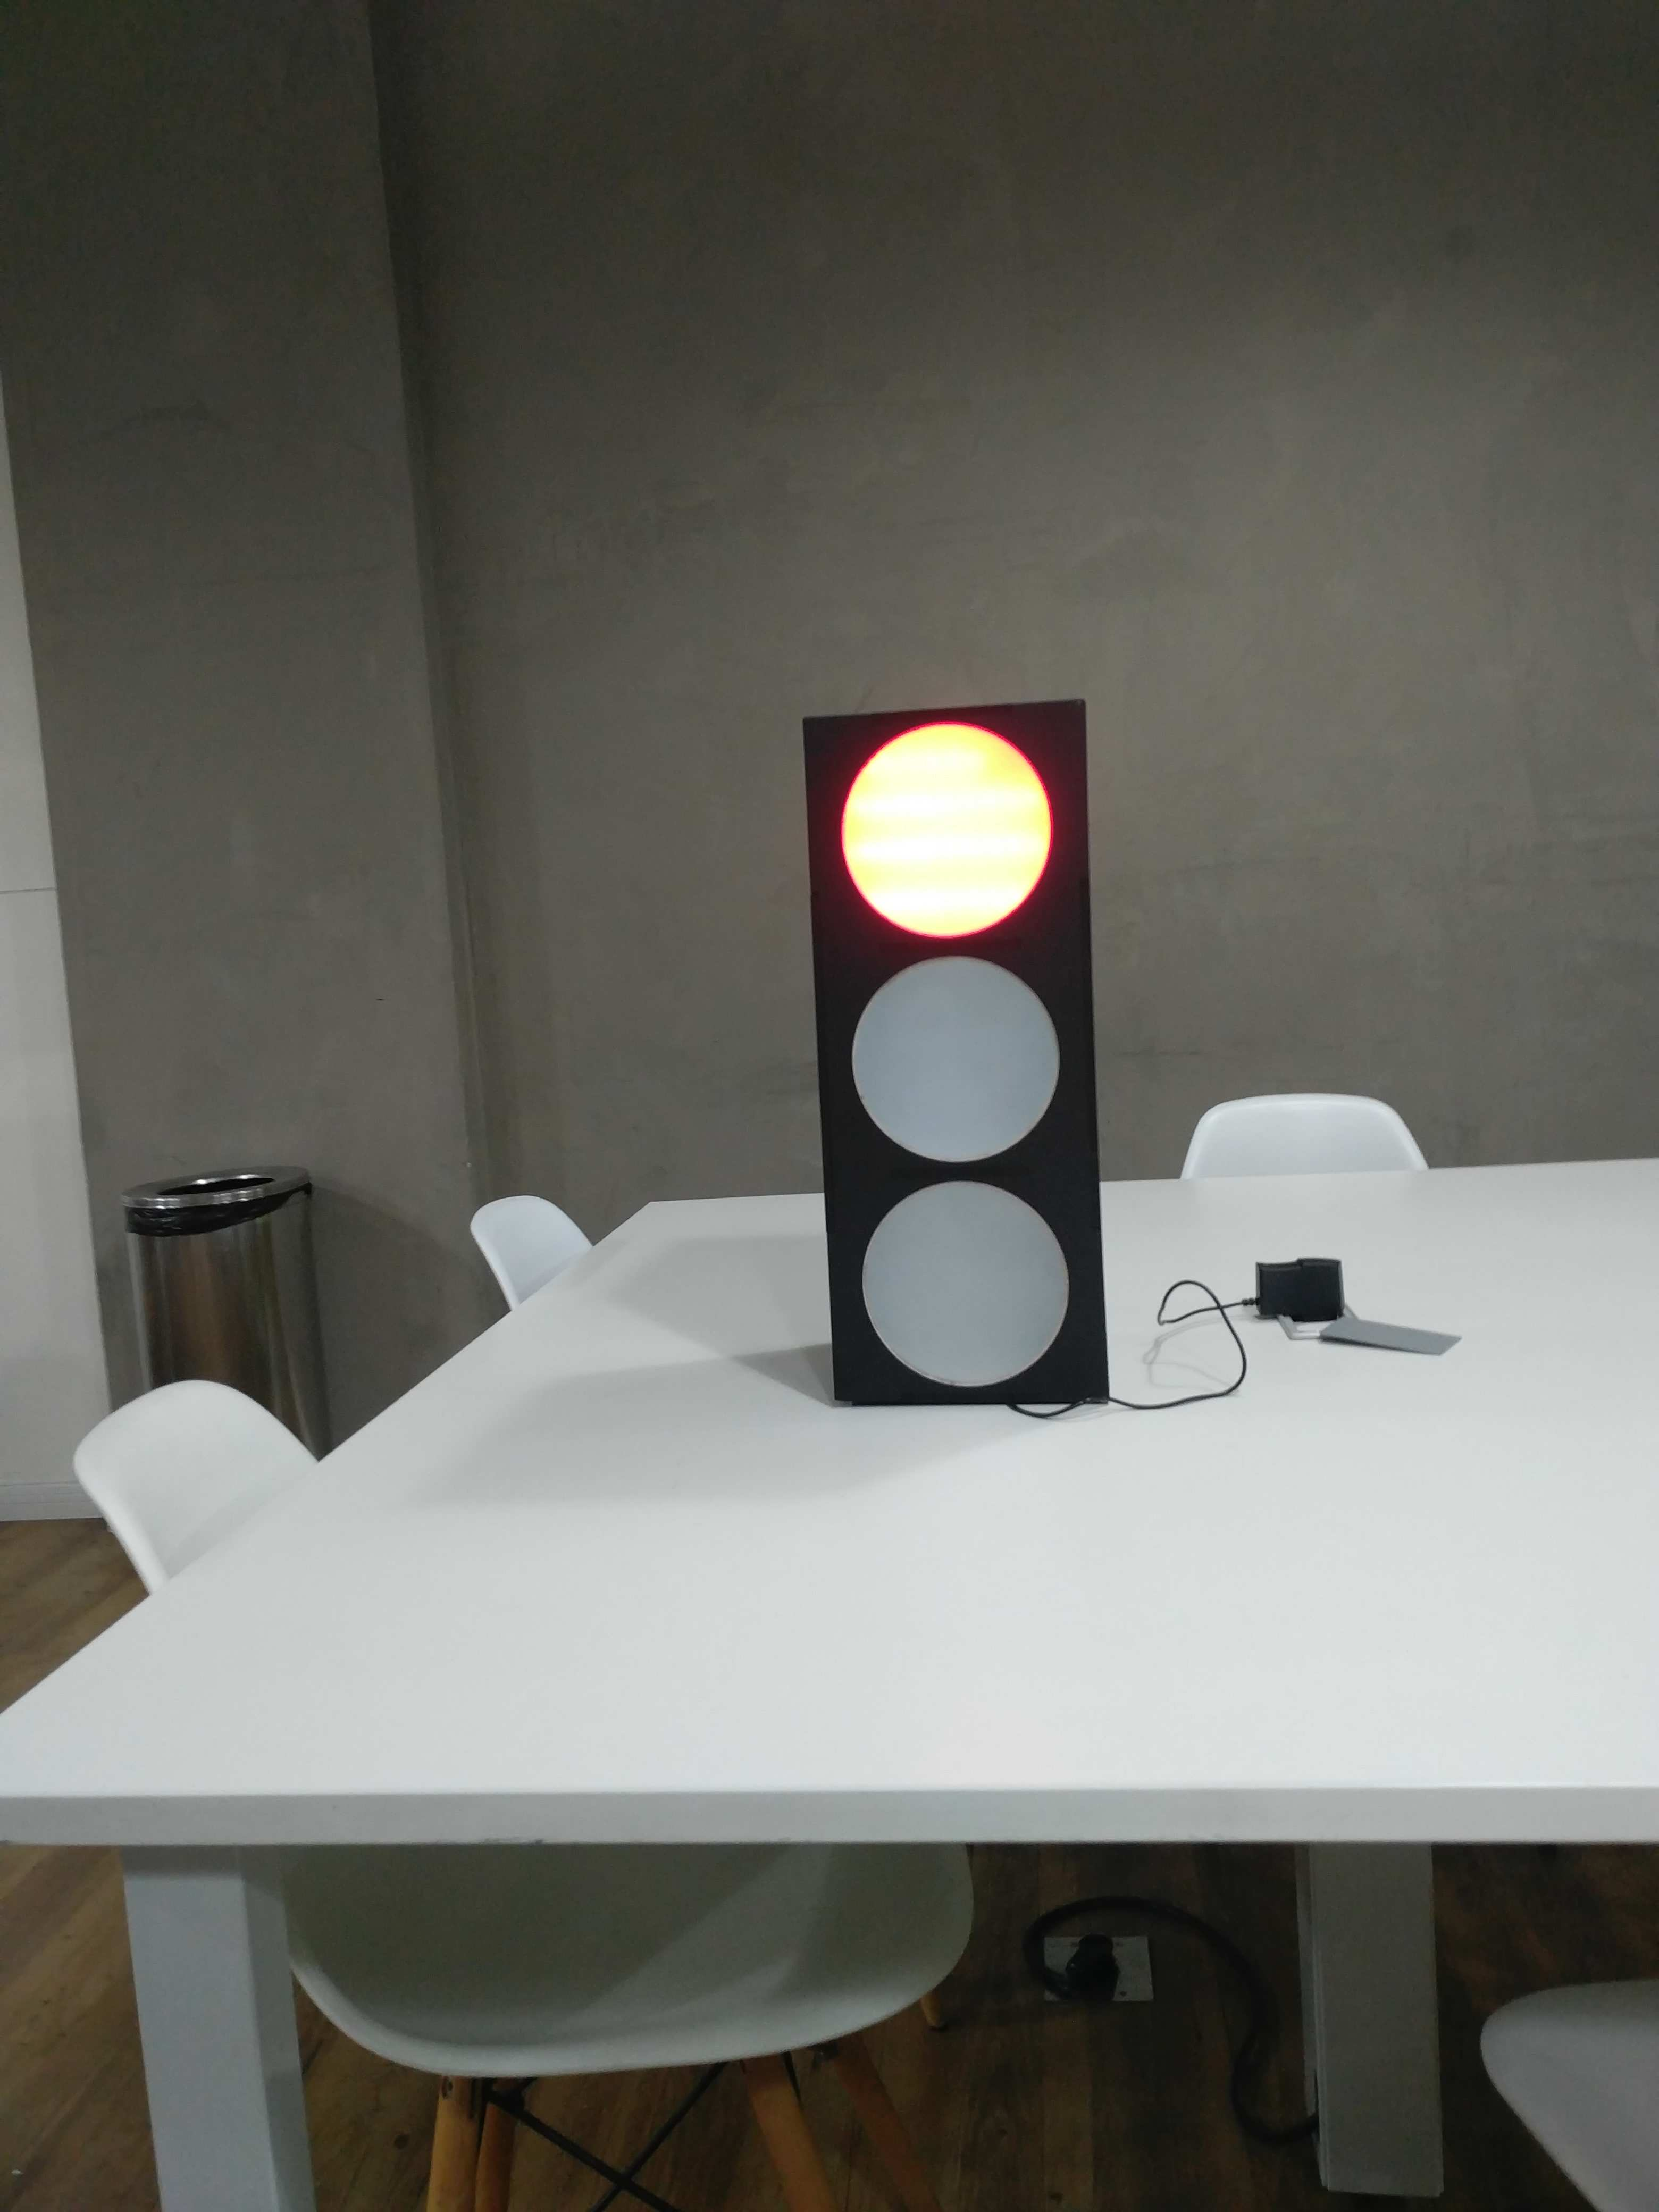stop: (800, 693, 1115, 1416)
